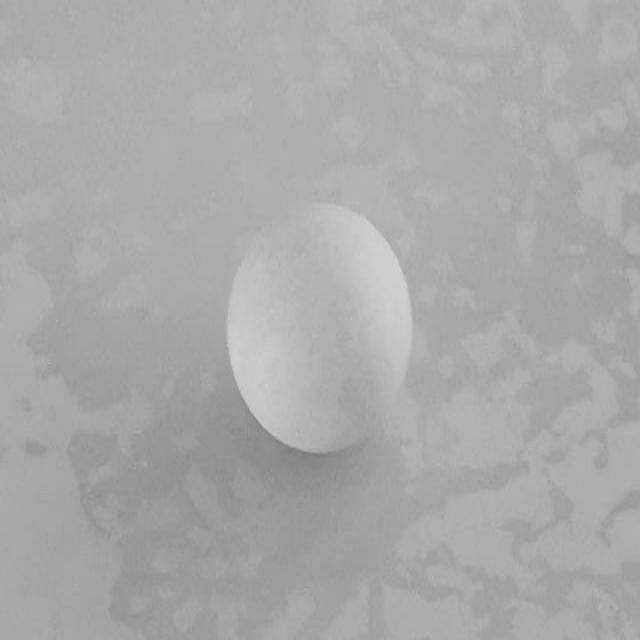ping-pong-ball: (233, 208, 409, 454)
